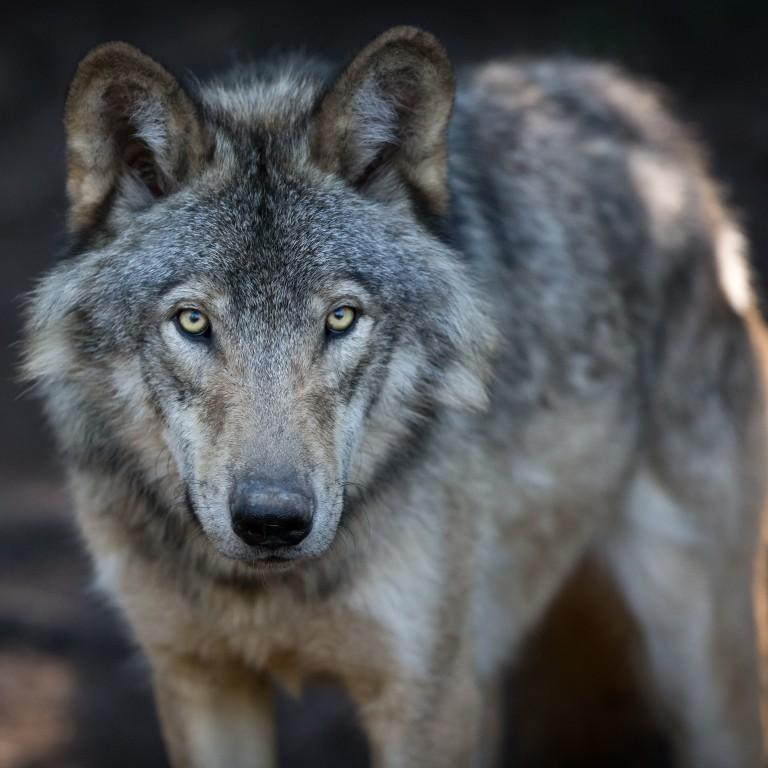fox: (26, 36, 760, 752)
